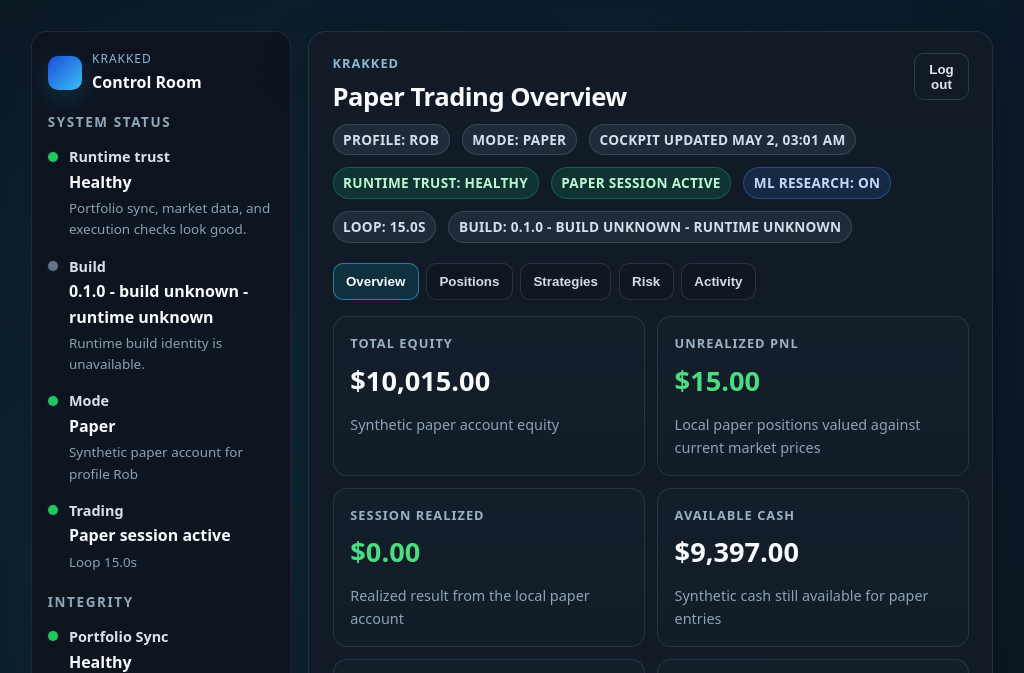
Test: cockpit operator paths › renders live readiness from the cockpit snapshot without mutation actions
Expected: the heading "Paper Trading Overview" is shown, [332,79,627,114]
Expected: the text "Runtime trust: Healthy" is shown, [332,167,539,199]
Click the button with test id "cockpit-tab-risk": {"x": 646, "y": 281} [619,263,674,300]
(page scrolled)
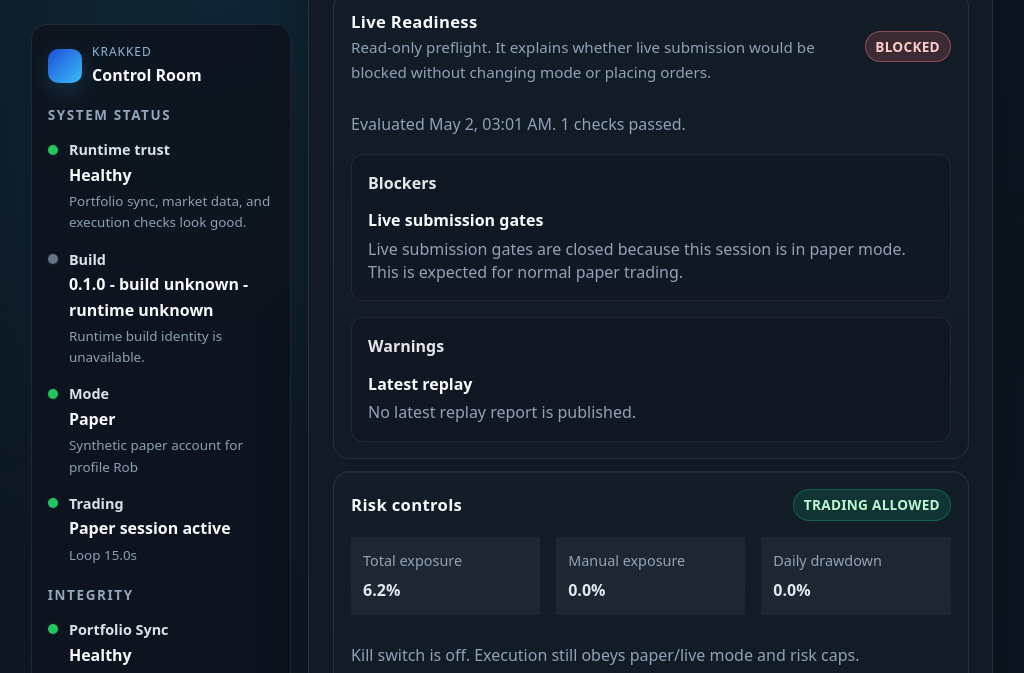
Expected: the text "Blocked" is shown, [865,30,950,62]
Expected: the text "Live submission gates" is shown, [368,209,543,231]
Expected: the text "expected for normal paper trading" is shown, [368,238,906,283]
